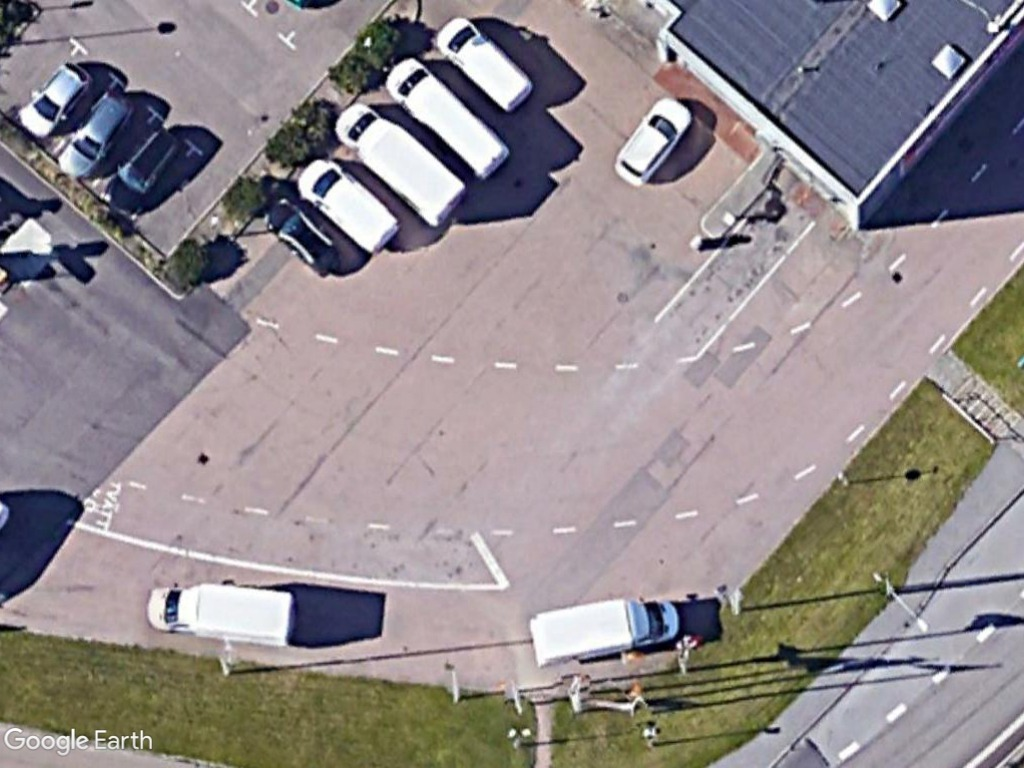car: (98, 122, 186, 222), (610, 90, 698, 189), (57, 84, 141, 185), (260, 190, 347, 277), (13, 57, 96, 138)
van: (382, 48, 519, 183), (335, 97, 471, 224), (146, 573, 301, 651), (295, 154, 408, 257), (522, 596, 681, 669), (434, 9, 537, 116)
